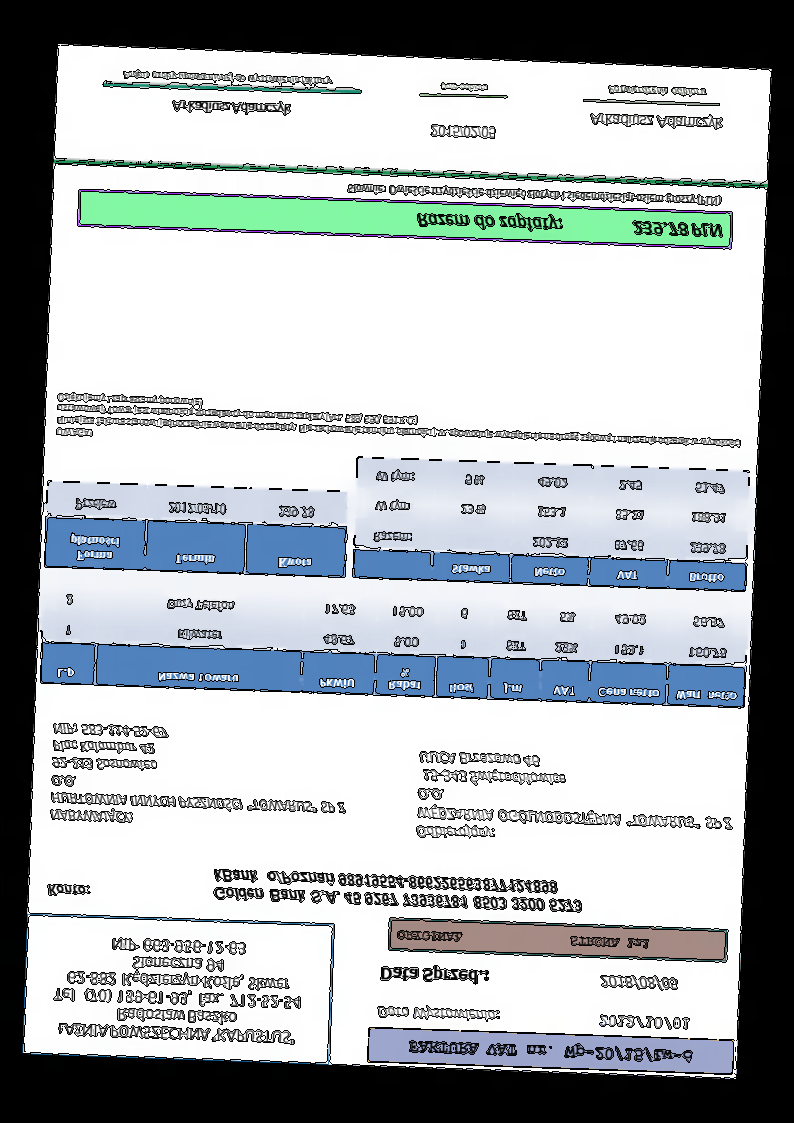Table: (39, 577, 749, 709), (351, 457, 750, 593), (42, 479, 349, 579)
TextBox: (54, 391, 743, 462), (47, 721, 351, 834), (413, 748, 735, 851), (50, 934, 305, 1048), (210, 866, 585, 914), (345, 181, 721, 209), (414, 210, 725, 241), (407, 1037, 696, 1067), (394, 927, 651, 954), (120, 67, 335, 90), (588, 108, 725, 132), (378, 962, 491, 988), (376, 1002, 503, 1025), (170, 97, 293, 118), (597, 1010, 694, 1032), (605, 83, 707, 100), (598, 973, 681, 992), (428, 123, 497, 141), (46, 881, 90, 900), (438, 82, 488, 94)
